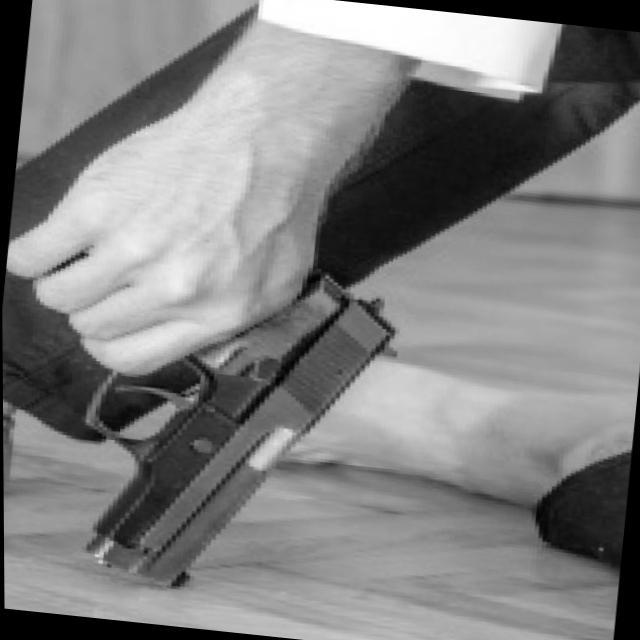weapon: (59, 244, 406, 606)
